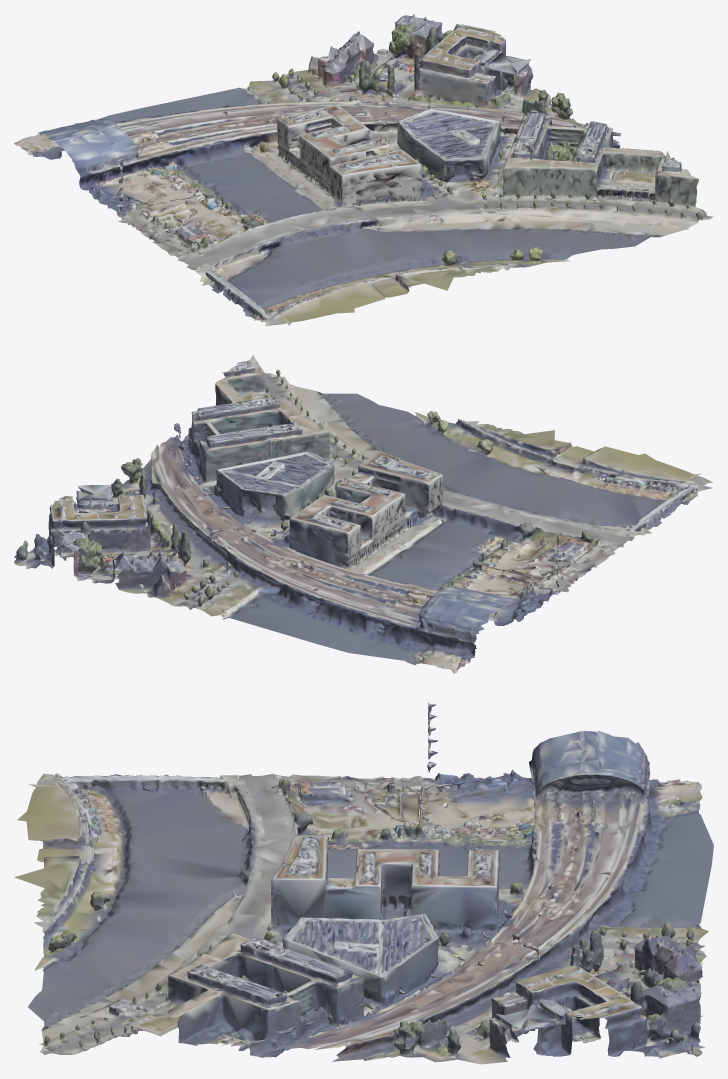
Rendered from tile-3894_58203.glb.
3 renders of one model, top to bottom at view 1: azimuth 30°, elevation 25°; view 2: azimuth 150°, elevation 25°; view 3: azimuth 270°, elevation 25°, orthographic. The views are drawn at different scales.
Visible parts, largest first — view 1: world; view 2: world; view 3: world.
Part boxes in pixels (<box>): world: <box>14,14,713,326</box>; world: <box>14,355,713,673</box>; world: <box>14,703,713,1064</box>.
Size of the model in its own units: 375 by 50.95 by 386.
